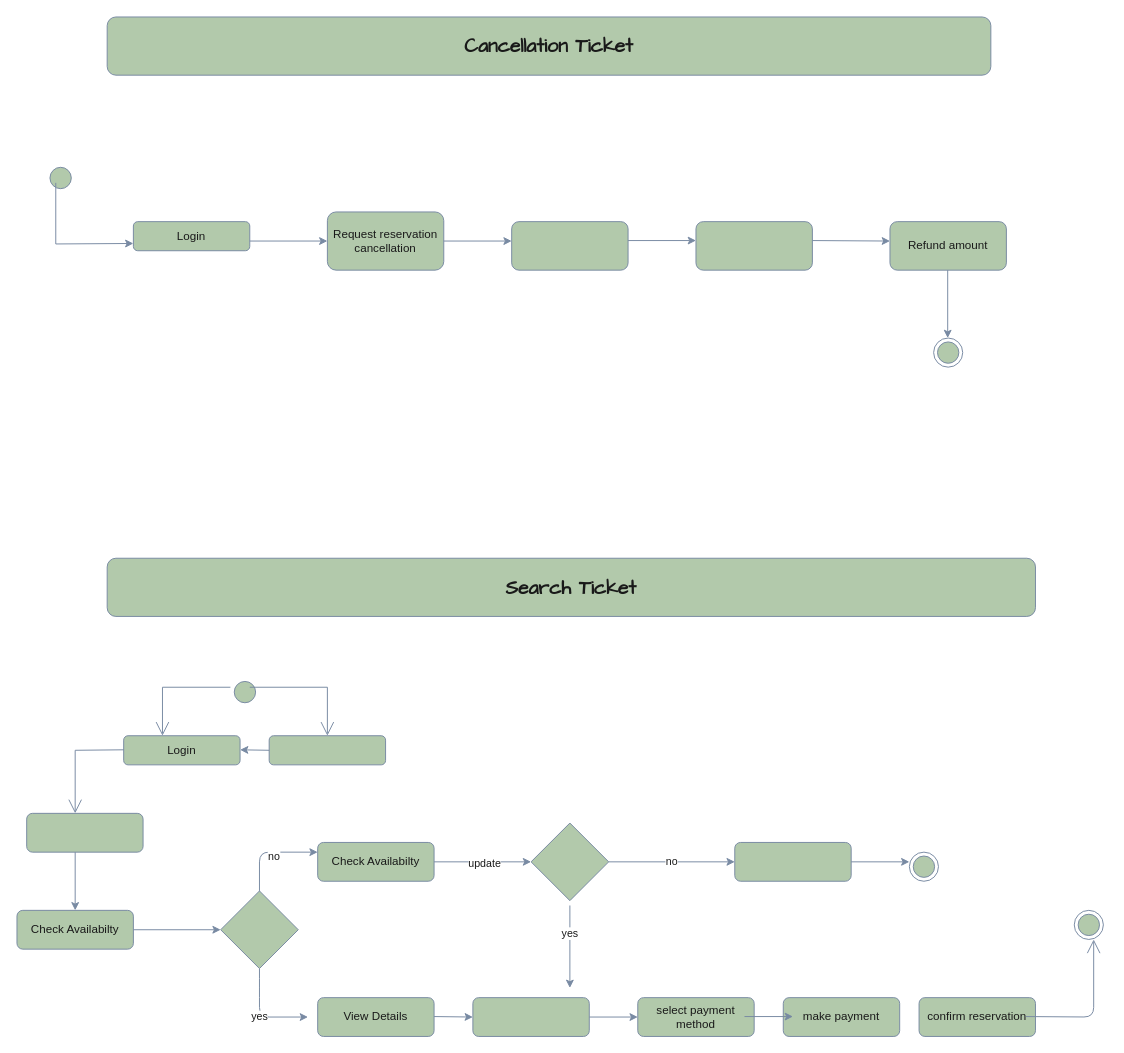
This 1124x1053 diagram has some shape labels left out. Here are the shapes that lost their labels. From the top down, the box of each, then its label:
(511, 221, 628, 270): Fill form
(695, 221, 812, 270): Submit
(268, 735, 386, 765): Register
(26, 812, 143, 852): Search train
(734, 841, 851, 881): Inform customer
(472, 997, 589, 1036): Reserve Ticket
